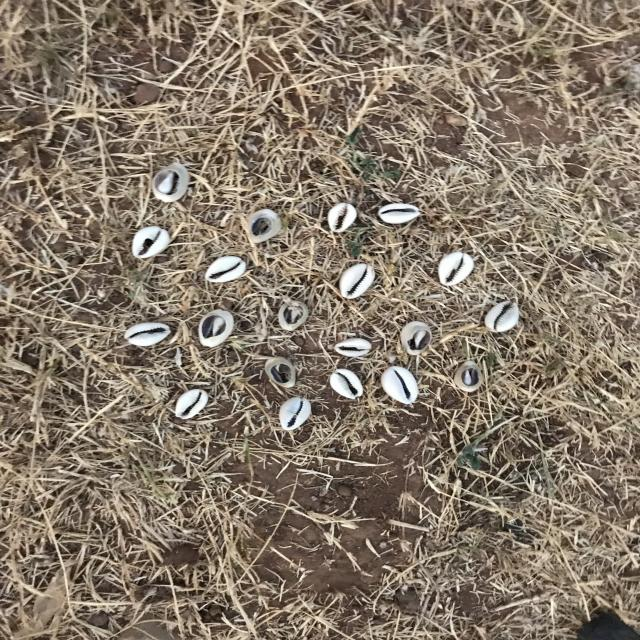facedown: (147, 162, 198, 205), (240, 207, 286, 247), (196, 306, 237, 349), (261, 354, 306, 390), (397, 318, 436, 359), (448, 358, 488, 396), (273, 297, 315, 332)
faceup: (380, 364, 426, 407), (126, 224, 180, 260), (334, 260, 379, 302), (324, 367, 372, 403), (480, 299, 527, 334), (435, 248, 475, 289), (204, 253, 253, 285), (276, 393, 316, 432), (122, 321, 176, 349), (172, 388, 214, 423), (374, 202, 428, 227), (325, 200, 361, 234), (329, 336, 377, 360)
